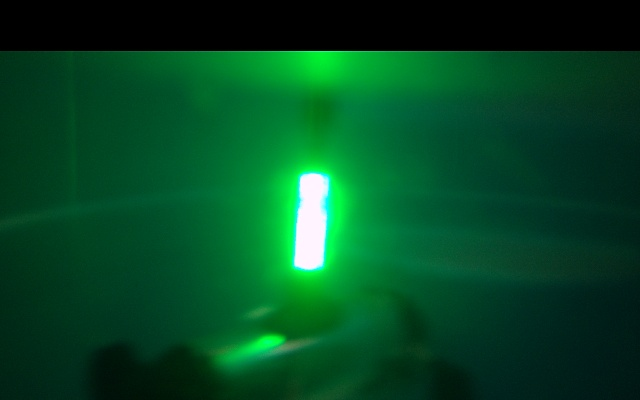green: (292, 169, 329, 285)
